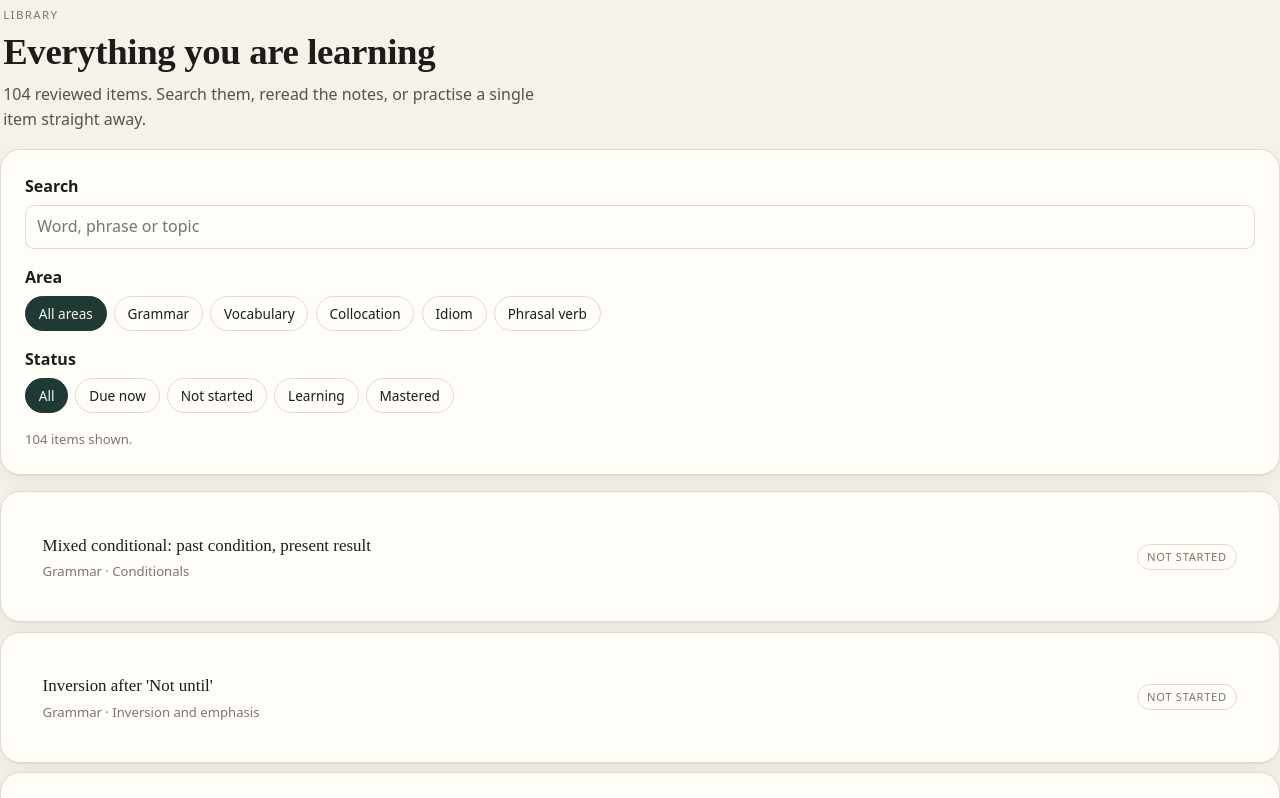
Test case: LibraryScreen › filters by area and by derived status
The image size is (1280, 798).
Click the button "Vocabulary" at (259, 314), box [210,296,308,331]
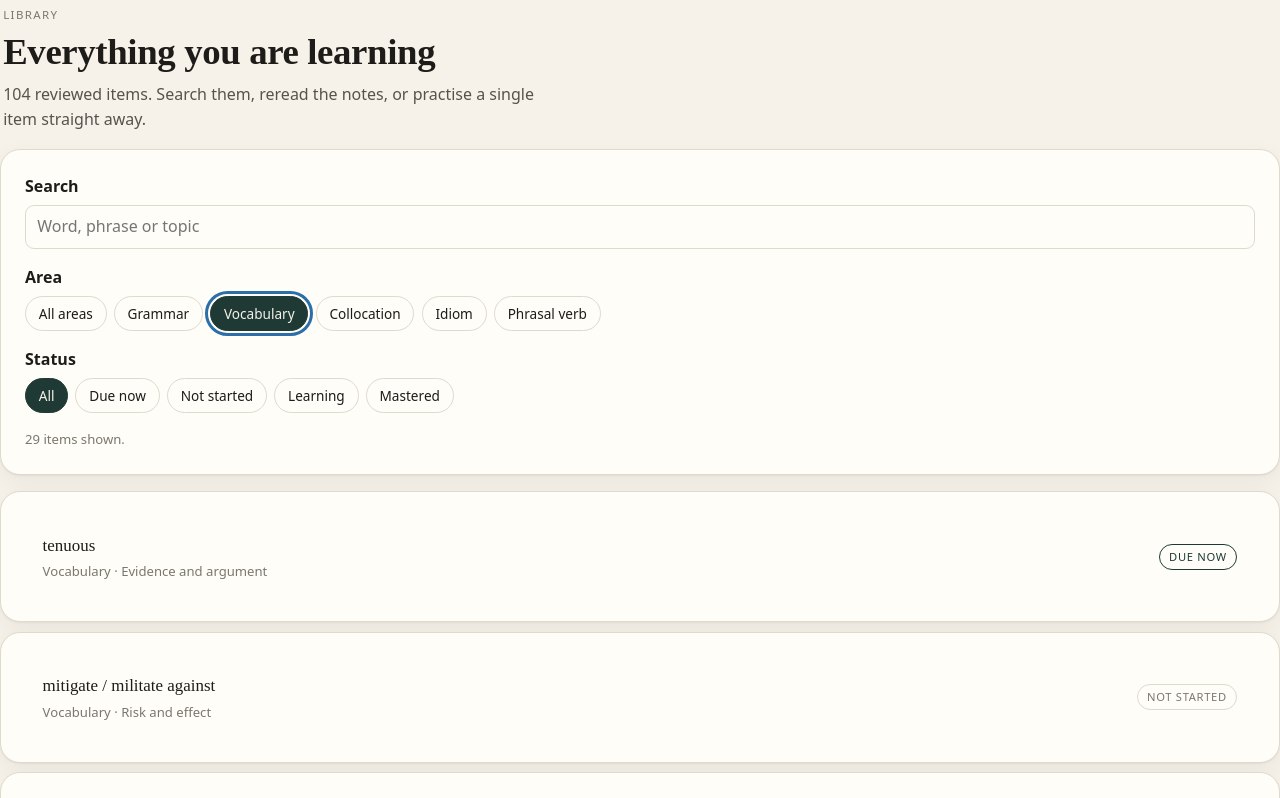
Click the button "Due now" at (118, 396), box [76,378,160,413]
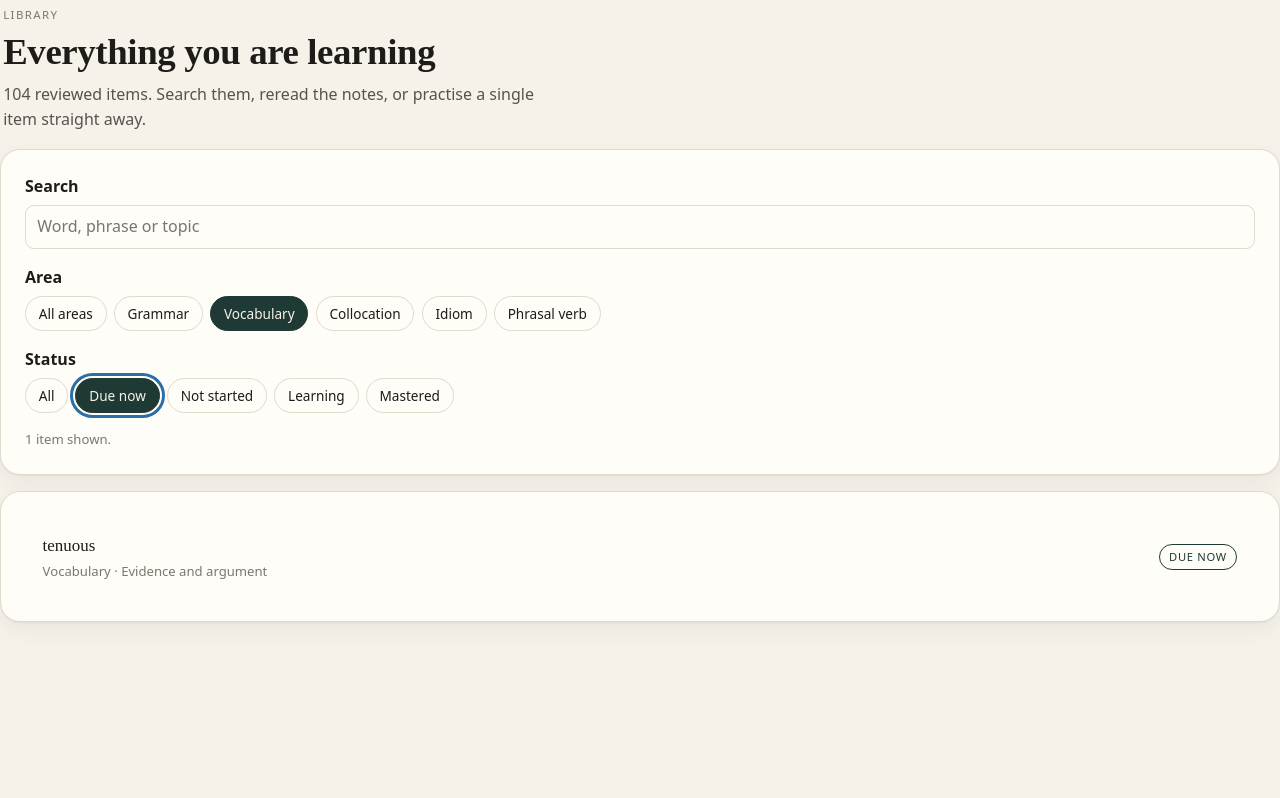
Check: the button "tenuous Vocabulary · Evidence and argument Due now" is shown, box [25,516,1255,597]
Check: the text "1 item shown." is shown, box [25,430,111,448]
Click the button "Mastered" at (410, 396), box [366,378,454,413]
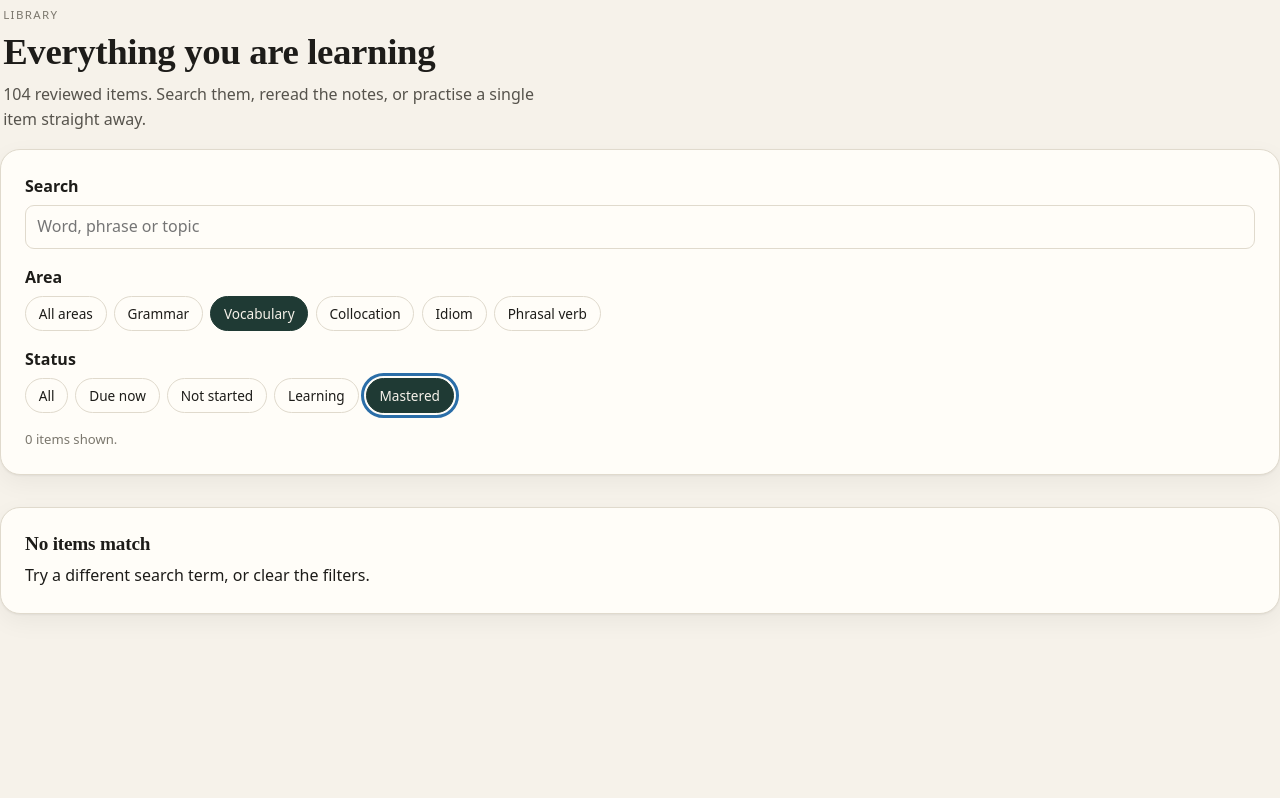
Check: the heading "No items match" is shown, box [25,533,150,554]
